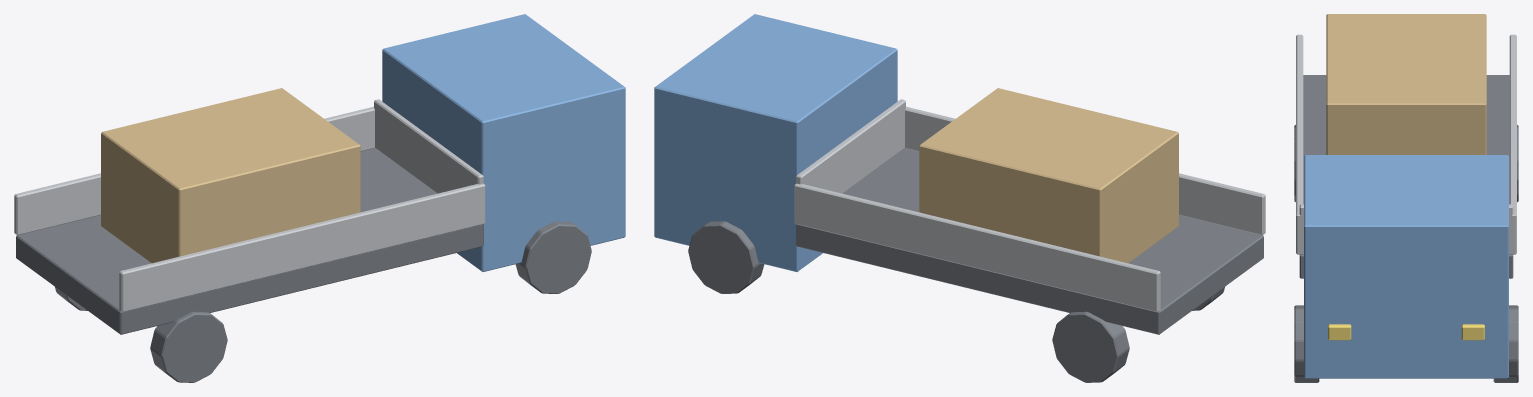
3 views of the same model, side by side, from view 1: azimuth 30°, elevation 25°; view 2: azimuth 150°, elevation 25°; view 3: azimuth 270°, elevation 25° (orthographic).
Visible parts, largest first — view 1: 驾驶室.001, 货物, 护栏, 平板, 车轮.010; view 2: 驾驶室.001, 货物, 护栏, 平板, 车轮.010; view 3: 驾驶室.001, 货物, 平板, 护栏, 车轮.010, 车灯.008.
Boxes of the visible parts, box(x1,y1,x2,y2) form: 驾驶室.001: box(382, 14, 625, 271); 货物: box(101, 88, 360, 263); 护栏: box(14, 99, 485, 312); 平板: box(16, 148, 483, 334); 车轮.010: box(55, 221, 591, 382); 驾驶室.001: box(654, 14, 897, 271); 货物: box(919, 88, 1178, 263); 护栏: box(794, 99, 1265, 312); 平板: box(796, 148, 1263, 334); 车轮.010: box(688, 221, 1224, 382); 驾驶室.001: box(1304, 155, 1508, 378); 货物: box(1326, 14, 1486, 154); 平板: box(1299, 75, 1513, 278); 护栏: box(1296, 34, 1516, 254); 车轮.010: box(1294, 125, 1518, 382); 车灯.008: box(1328, 324, 1484, 340).
Size of the model in its own units: 676 by 235 by 252.
